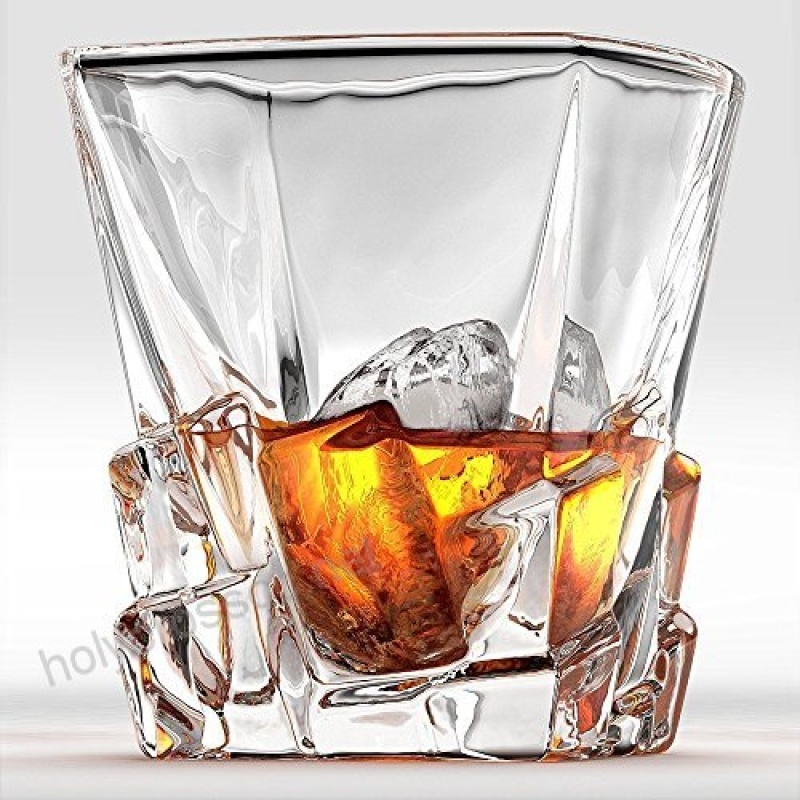whiskey: (70, 47, 687, 743)
